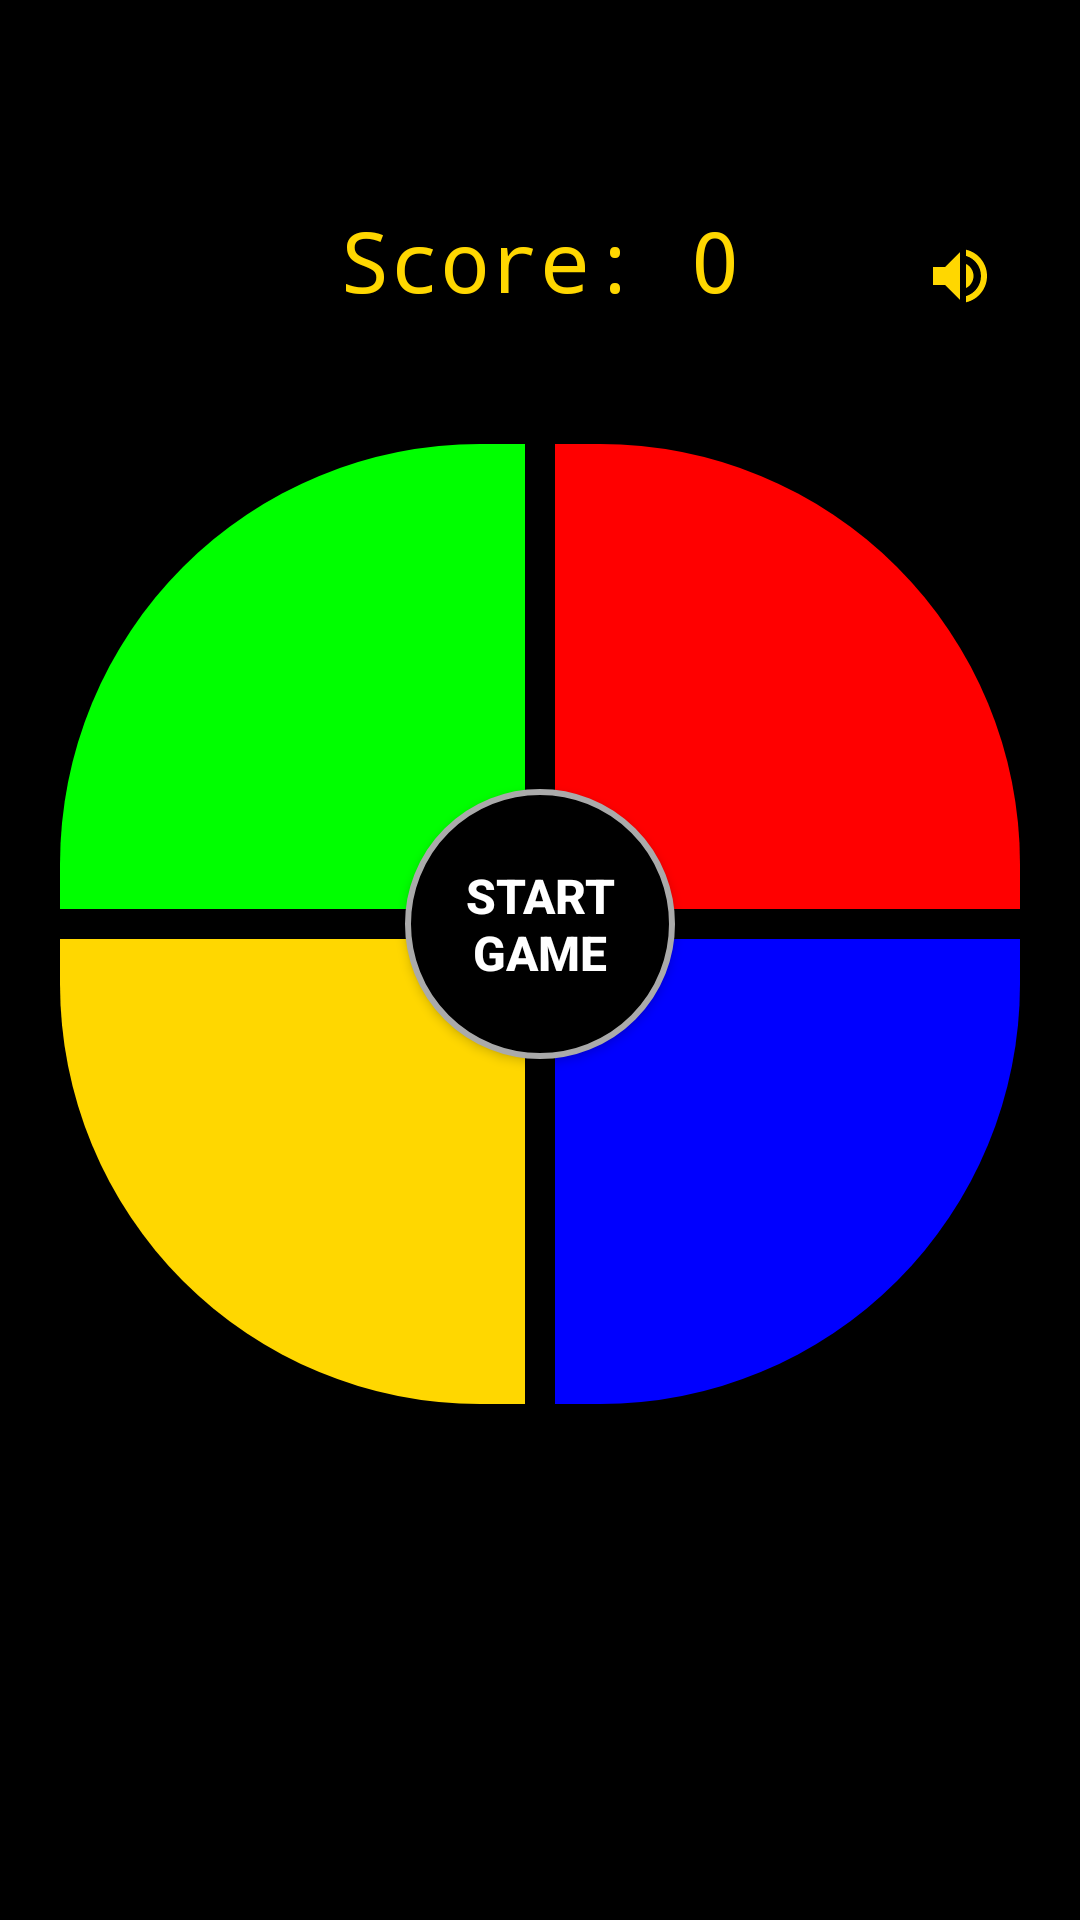

Screen size 1080×1920. Icon name, then its center in pixels as (x=x, y=y):
Toggle sound: (x=960, y=276)
